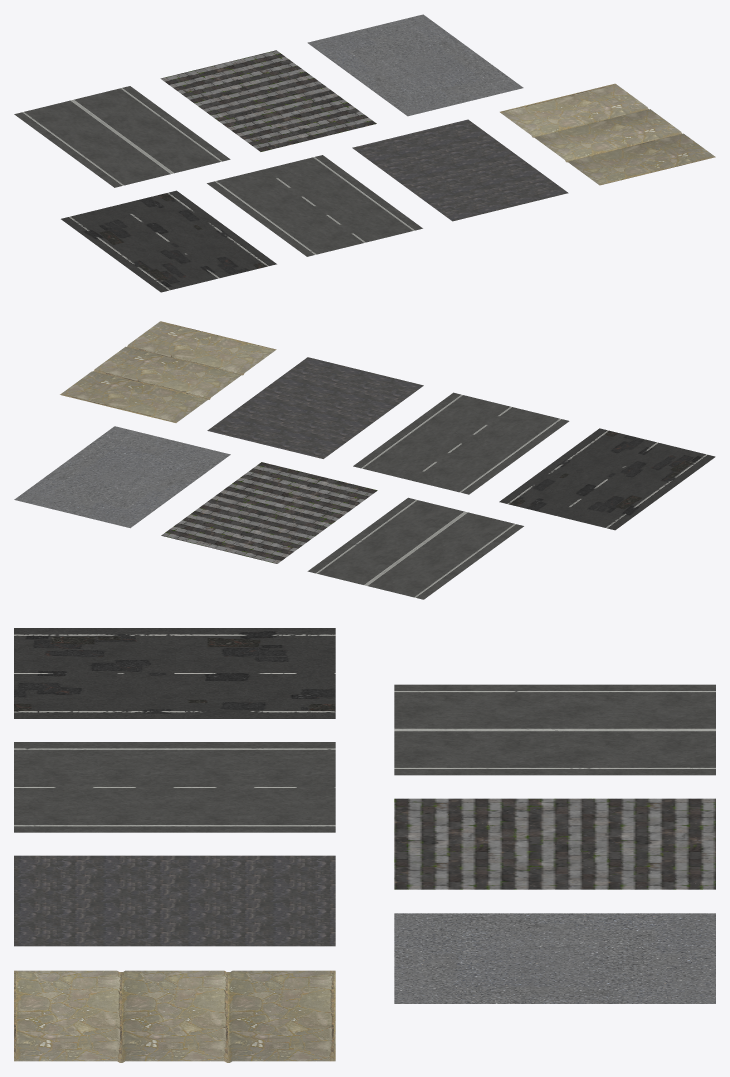
The picture shows the model from 3 angles, top to bottom: view 1: azimuth 30°, elevation 25°; view 2: azimuth 150°, elevation 25°; view 3: azimuth 270°, elevation 25°; orthographic projection. The views are drawn at different scales.
Visible parts, largest first — view 1: Plane.003, Plane.006, Plane.004, Plane, Plane.002, Plane.005, Plane.001; view 2: Plane.003, Plane.001, Plane.004, Plane.005, Plane.006, Plane, Plane.002; view 3: Plane.002, Plane.004, Plane.005, Plane.003, Plane, Plane.001, Plane.006.
Part boxes in pixels (x1,y1,x2,y2): Plane.003: (500, 83, 715, 185); Plane.006: (307, 14, 523, 116); Plane.004: (14, 86, 230, 187); Plane: (61, 190, 276, 292); Plane.002: (352, 119, 568, 221); Plane.005: (160, 50, 376, 151); Plane.001: (207, 155, 422, 256); Plane.003: (60, 321, 276, 422); Plane.001: (353, 392, 569, 494); Plane.004: (307, 497, 523, 599); Plane.005: (161, 462, 377, 563); Plane.006: (14, 426, 230, 528); Plane: (499, 428, 715, 530); Plane.002: (207, 357, 423, 458); Plane.002: (14, 855, 335, 946); Plane.004: (394, 684, 715, 775); Plane.005: (394, 798, 715, 889); Plane.003: (14, 970, 335, 1062); Plane: (14, 628, 335, 718); Plane.001: (14, 742, 335, 832); Plane.006: (394, 913, 715, 1003).
Bounding box in the file's own units: 1895 × 3.36 × 1298.
Materials: 7 (7 with a texture image).
